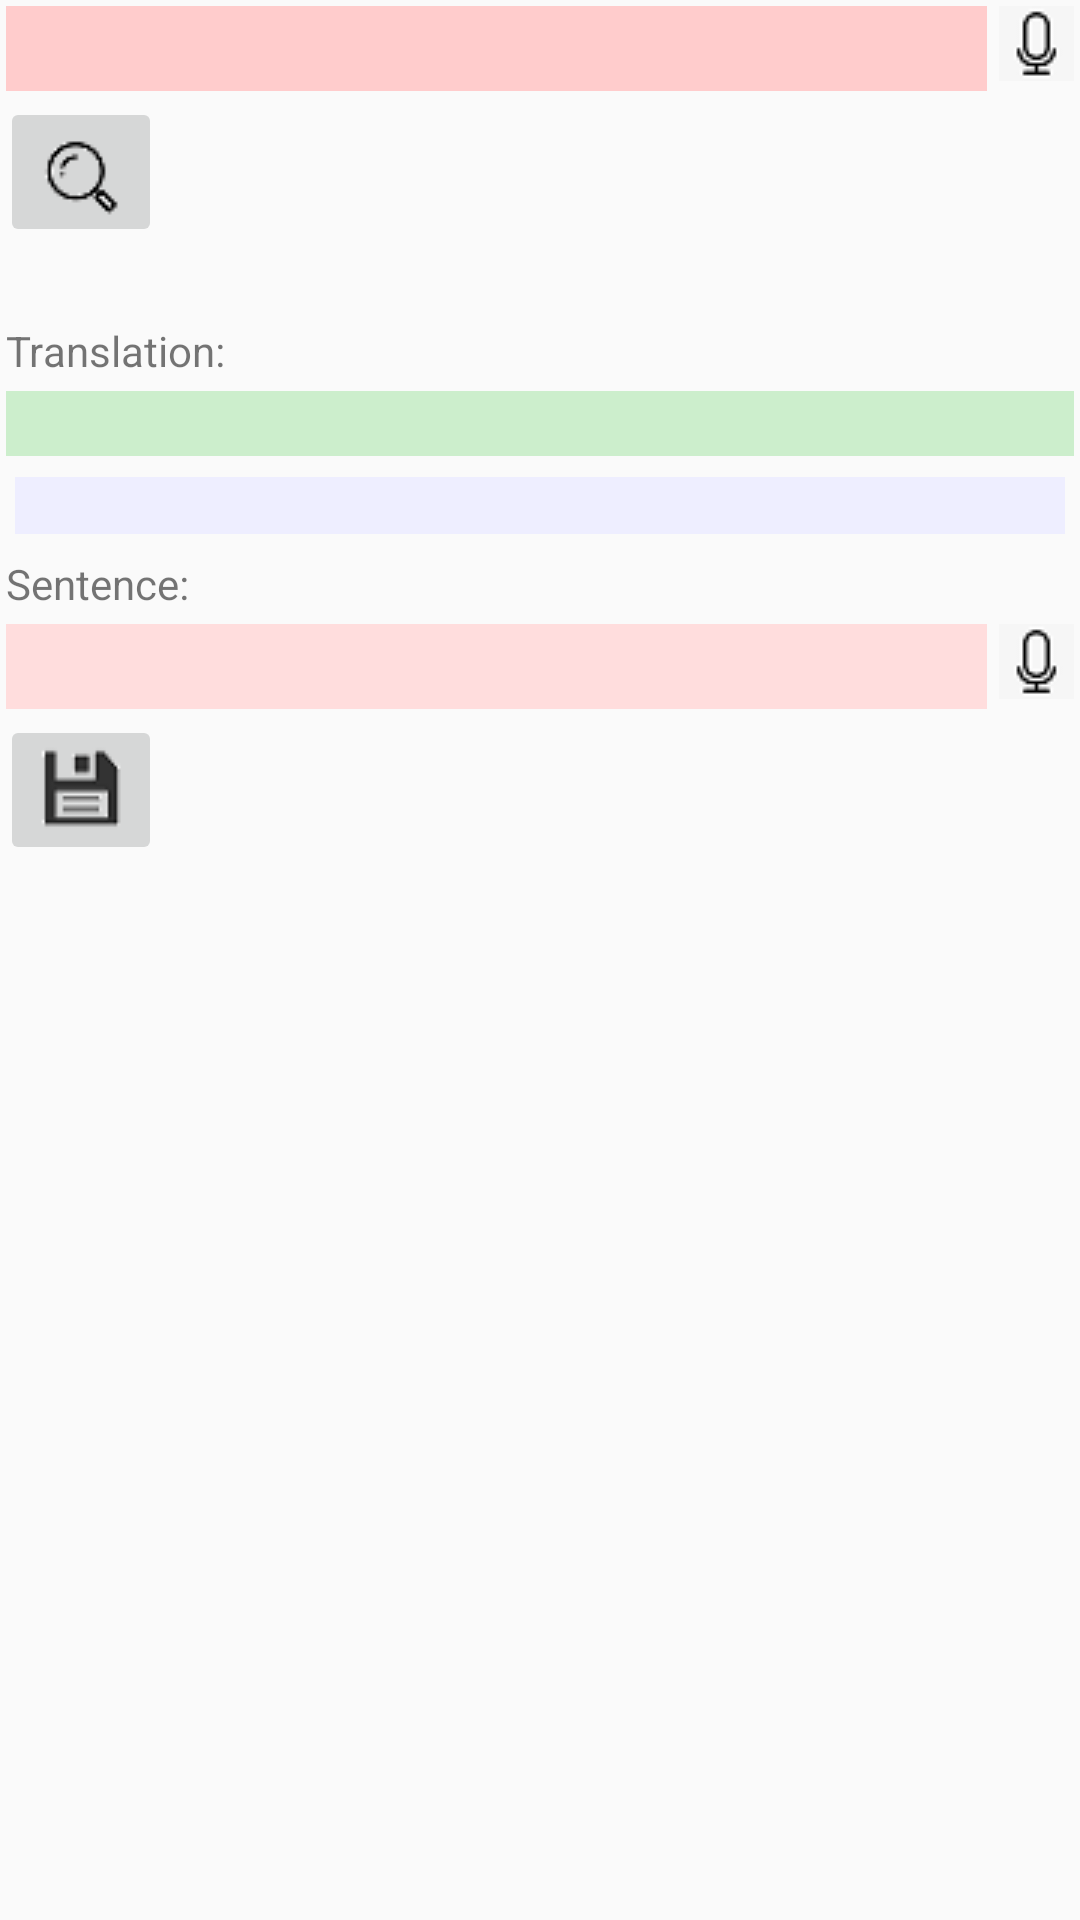

Locate icon controls on the screen. Image size 1080*1920, boxes as box(x1, y1, x2, y2).
microphone: box(1016, 11, 1057, 76), box(1016, 629, 1057, 694)
save: box(12, 733, 150, 847)
search: box(12, 115, 150, 229)
